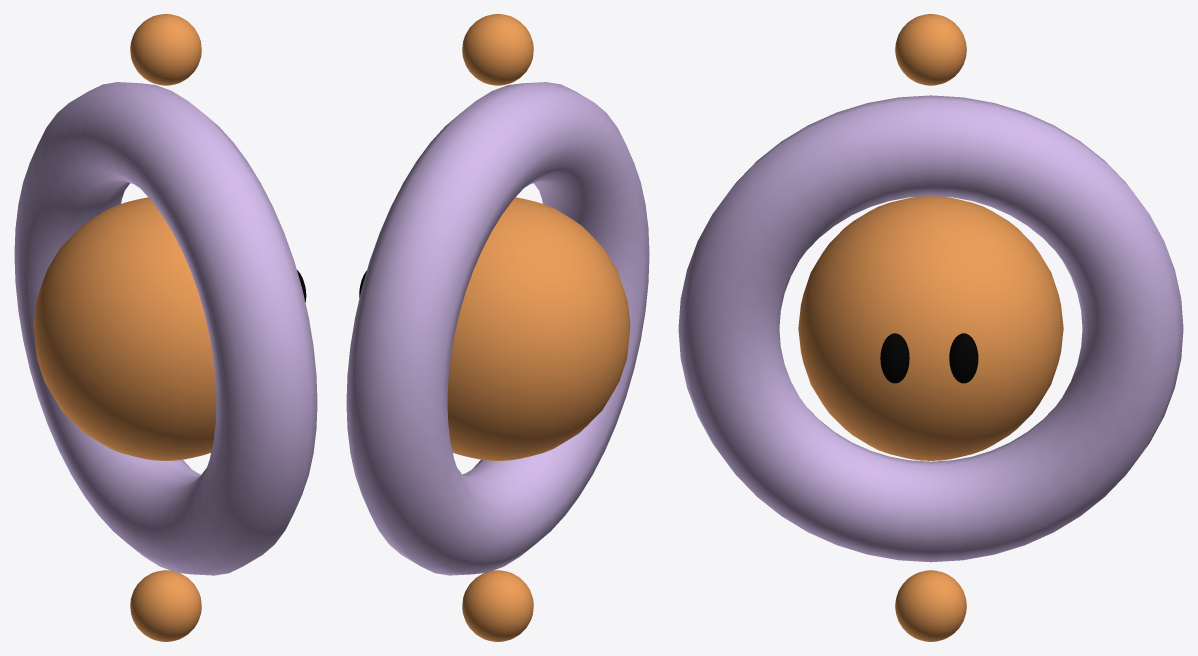
The model's file is saturnito_avatar.gltf.
3 views of the same model, side by side, from view 1: azimuth 30°, elevation 25°; view 2: azimuth 150°, elevation 25°; view 3: azimuth 270°, elevation 25° (orthographic).
Parts seen in each view (by area): view 1: Rosca, Esfera, Esfera.004, Esfera.003; view 2: Rosca, Esfera, Esfera.004, Esfera.003; view 3: Rosca, Esfera, Esfera.003, Esfera.004, Esfera.002, Esfera.001.
Part boxes in pixels (left/top/right/bottom): Rosca: left=14, top=82, right=317, bottom=575; Esfera: left=33, top=197, right=216, bottom=460; Esfera.004: left=130, top=14, right=201, bottom=85; Esfera.003: left=130, top=570, right=201, bottom=641; Rosca: left=346, top=82, right=649, bottom=575; Esfera: left=447, top=197, right=630, bottom=460; Esfera.004: left=462, top=14, right=533, bottom=85; Esfera.003: left=462, top=570, right=533, bottom=641; Rosca: left=678, top=95, right=1183, bottom=562; Esfera: left=798, top=196, right=1063, bottom=460; Esfera.003: left=895, top=570, right=966, bottom=641; Esfera.004: left=895, top=14, right=966, bottom=85; Esfera.002: left=949, top=333, right=978, bottom=383; Esfera.001: left=880, top=333, right=909, bottom=383.
Bounding box in the file's own units: 1.34 × 3.39 × 2.5.
